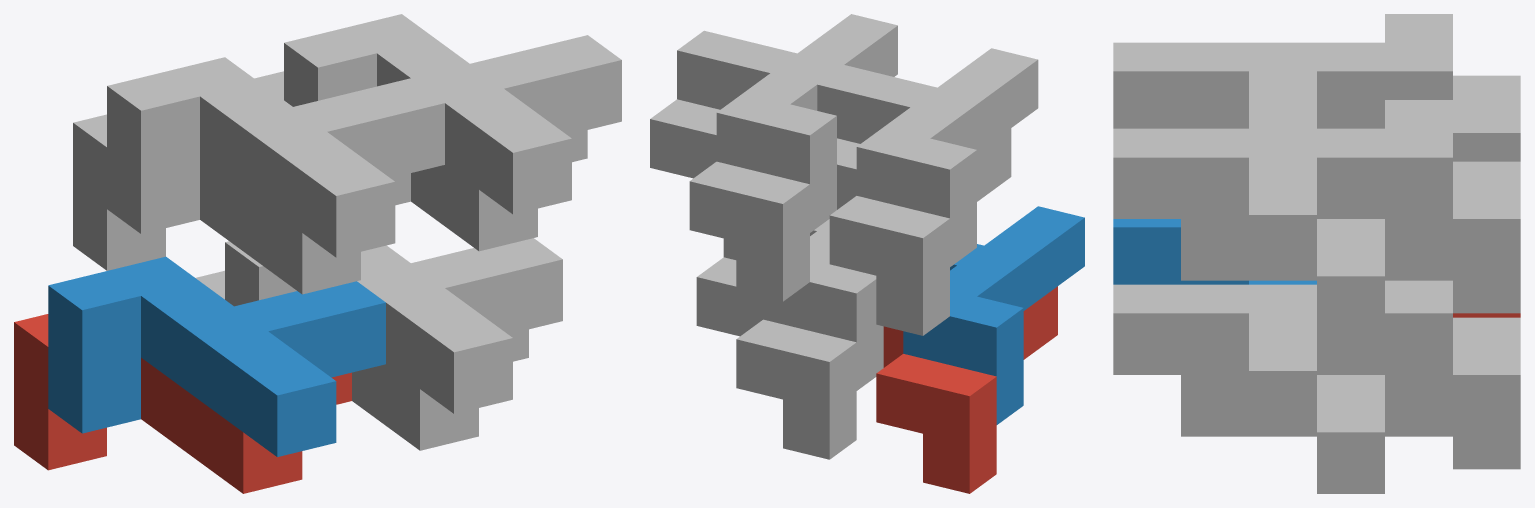
File: tiling.obj
The picture shows the model from 3 angles, left to right: view 1: azimuth 30°, elevation 25°; view 2: azimuth 150°, elevation 25°; view 3: azimuth 270°, elevation 25°; orthographic projection. The views are drawn at different scales.
Visible parts, largest first — view 1: copy_1_domain_4, copy_1_domain_2, copy_1_domain_8, copy_1_domain_6, copy_1_domain_1, copy_1_domain_3, copy_1_domain_7, copy_1_domain_5; view 2: copy_1_domain_4, copy_1_domain_8, copy_1_domain_2, copy_1_domain_7, copy_1_domain_5, copy_1_domain_3, copy_1_domain_1, copy_1_domain_6; view 3: copy_1_domain_8, copy_1_domain_6, copy_1_domain_4, copy_1_domain_5, copy_1_domain_7, copy_1_domain_3, copy_1_domain_2.
Boxes of the visible parts, x1,y1,x2,y2 form: copy_1_domain_4: (107, 57, 444, 257); copy_1_domain_2: (48, 256, 385, 456); copy_1_domain_8: (284, 14, 621, 214); copy_1_domain_6: (225, 238, 562, 413); copy_1_domain_1: (14, 314, 351, 493); copy_1_domain_3: (73, 114, 410, 294); copy_1_domain_7: (254, 71, 587, 251); copy_1_domain_5: (196, 270, 528, 450); copy_1_domain_4: (817, 48, 1038, 266); copy_1_domain_8: (677, 14, 897, 232); copy_1_domain_2: (903, 206, 1084, 424); copy_1_domain_7: (650, 99, 809, 301); copy_1_domain_5: (696, 257, 856, 459); copy_1_domain_3: (829, 128, 1011, 335); copy_1_domain_1: (876, 286, 1057, 493); copy_1_domain_6: (723, 219, 883, 390); copy_1_domain_8: (1113, 100, 1452, 276); copy_1_domain_6: (1113, 280, 1452, 432); copy_1_domain_4: (1113, 14, 1452, 128); copy_1_domain_5: (1181, 317, 1520, 493); copy_1_domain_7: (1181, 161, 1520, 337); copy_1_domain_3: (1453, 75, 1520, 161); copy_1_domain_2: (1113, 219, 1316, 284).
Size of the model in its own units: 8 by 6 by 6.
